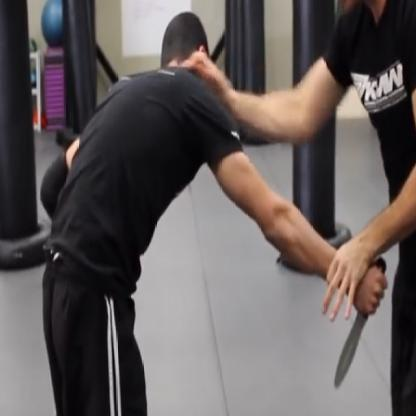knife: (330, 251, 388, 400)
